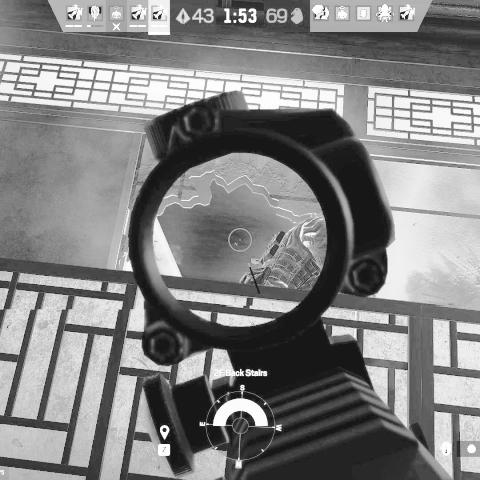Character: (237, 213, 329, 292)
